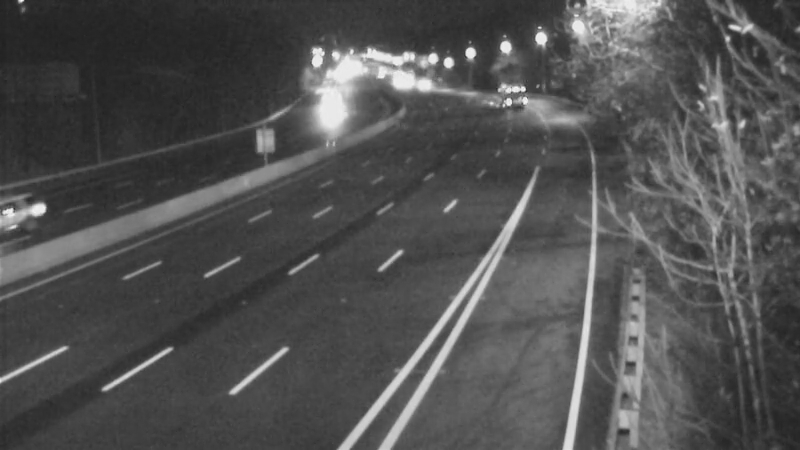vehicle: (1, 171, 74, 251), (482, 67, 532, 117), (303, 89, 353, 139)
